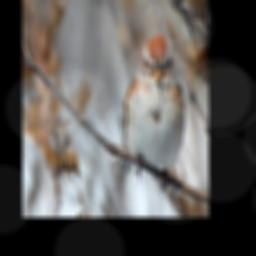Sparrow: (112, 31, 187, 197)
